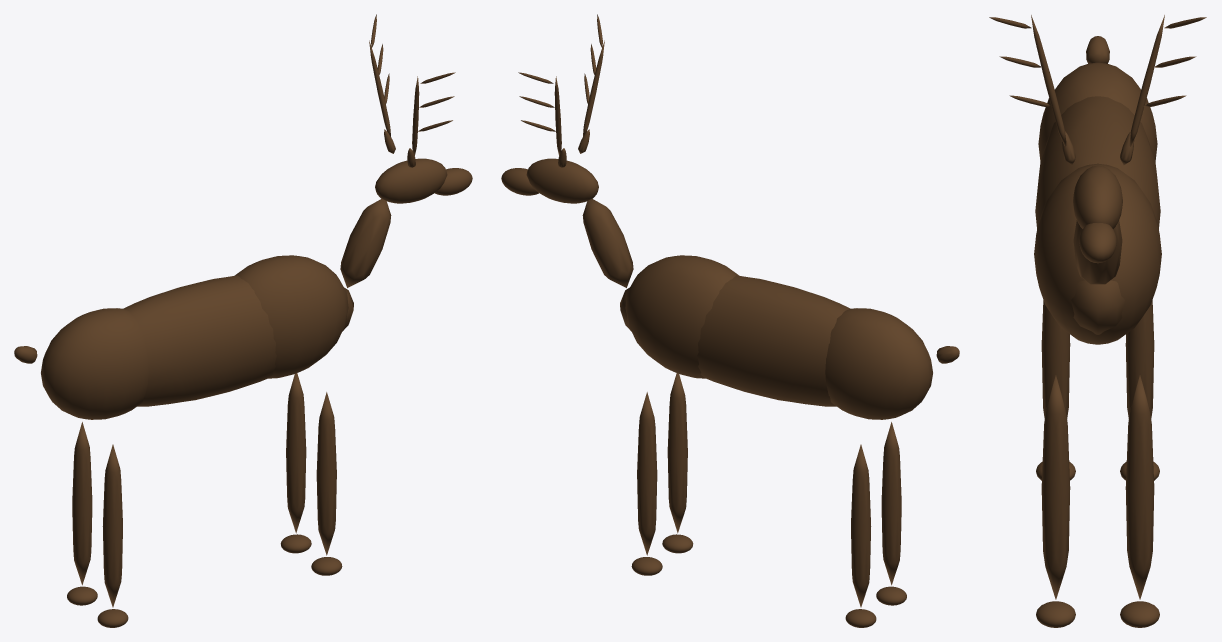
The model's file is elk.glb.
3 renders of one model, left to right at view 1: azimuth 30°, elevation 25°; view 2: azimuth 150°, elevation 25°; view 3: azimuth 270°, elevation 25°, orthographic. The views are drawn at different scales.
Visible parts, largest first — view 1: elk; view 2: elk; view 3: elk.
Boxes of the visible parts, x1,y1,x2,y2 form: elk: (14,14,472,627); elk: (501,14,959,627); elk: (989,15,1206,627).
Size of the model in its own units: 2.34 by 2.41 by 0.7056.
1 material, 1 textured.
